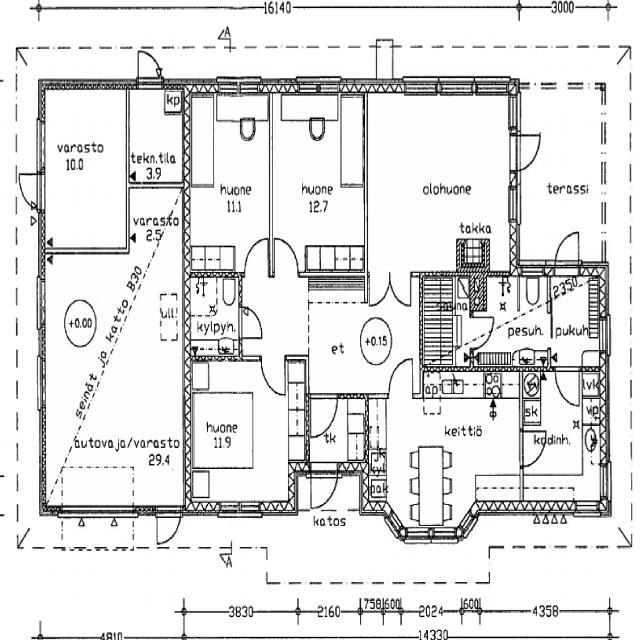door: (510, 132, 546, 171), (156, 502, 182, 556), (311, 461, 337, 513), (554, 224, 580, 274), (135, 41, 161, 90), (14, 173, 46, 211), (310, 392, 336, 437), (388, 354, 414, 398), (260, 354, 285, 399), (555, 365, 580, 407), (519, 430, 547, 467), (274, 232, 298, 272), (245, 233, 268, 272), (469, 316, 495, 349), (368, 267, 390, 304), (390, 267, 411, 304), (238, 305, 262, 337)
